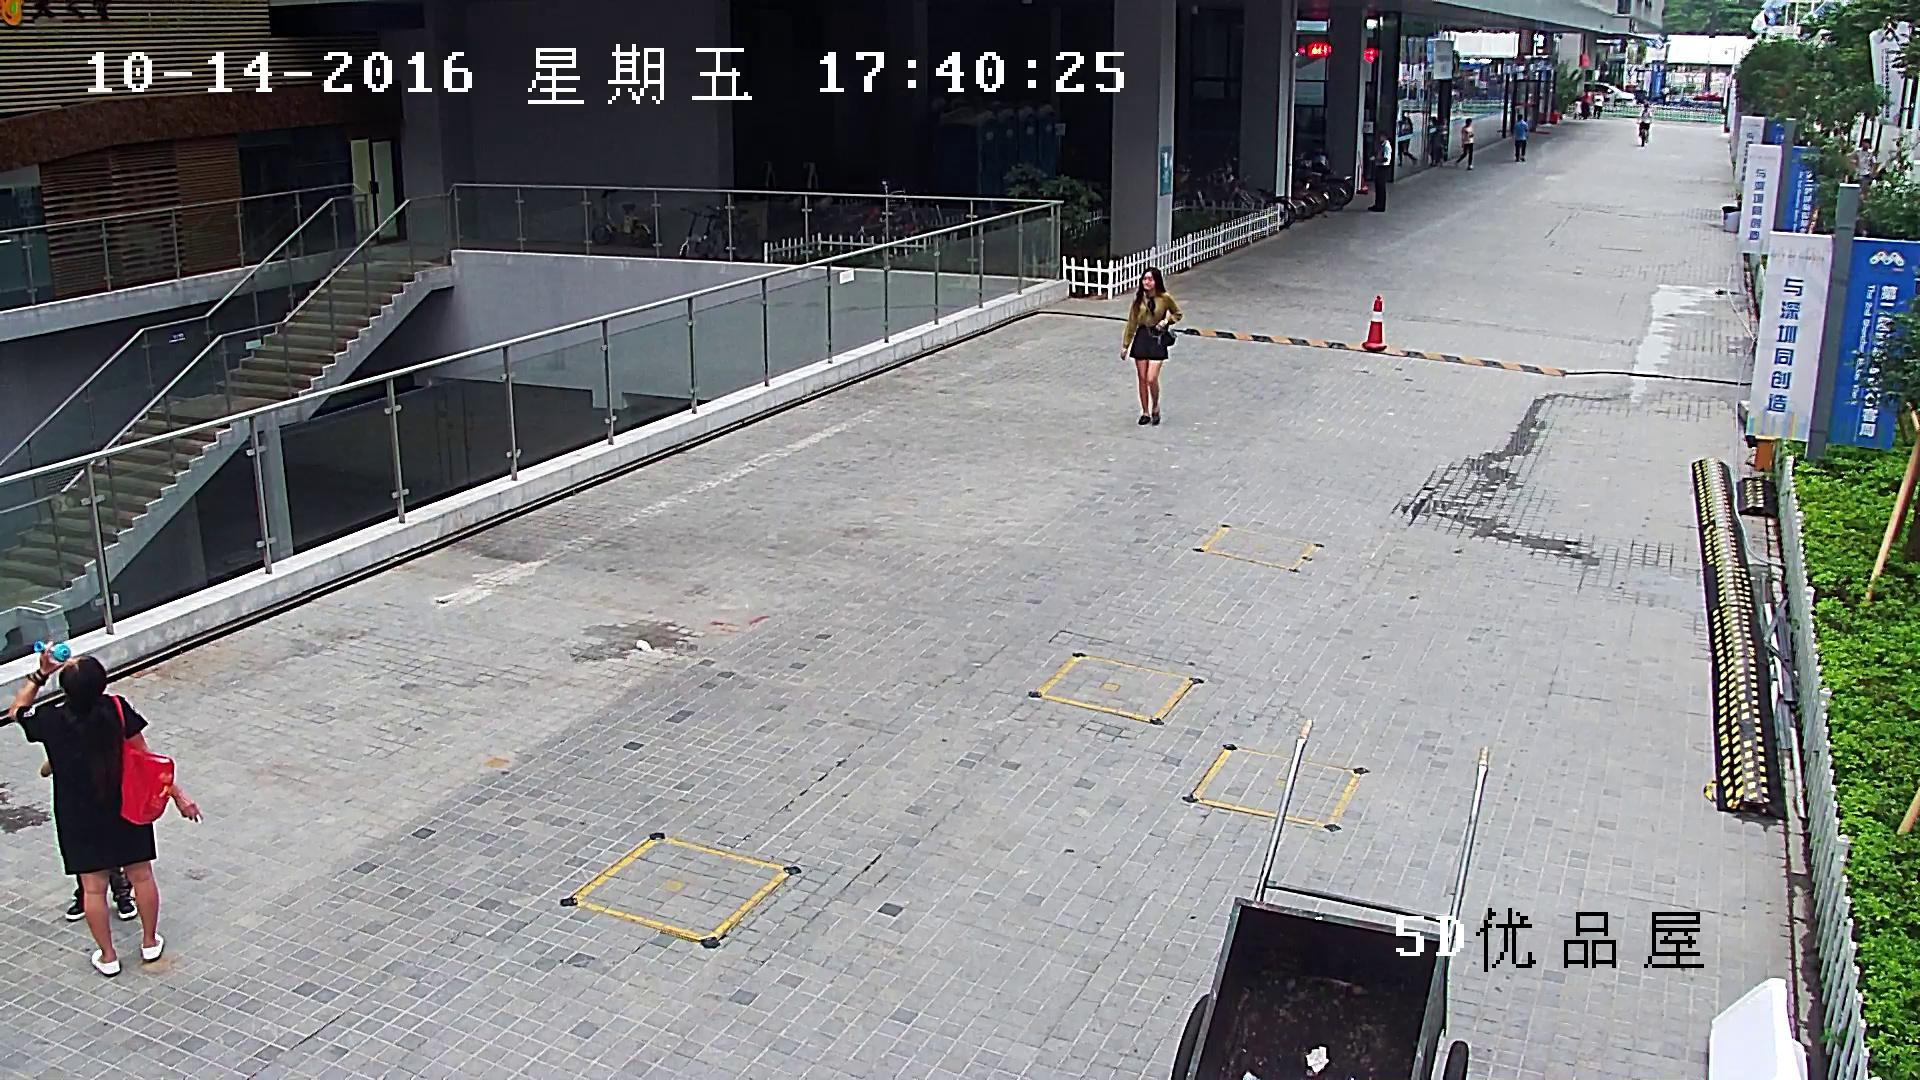person: (9, 641, 204, 975), (1121, 267, 1184, 427), (1367, 130, 1391, 210), (1398, 110, 1420, 167), (1850, 138, 1877, 183), (1454, 118, 1476, 171), (1425, 120, 1446, 167), (1514, 113, 1529, 161), (1638, 104, 1650, 146), (1639, 103, 1651, 142), (1593, 89, 1604, 119), (1580, 88, 1590, 119)
